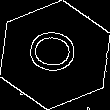O_E: (25, 30, 85, 80)
